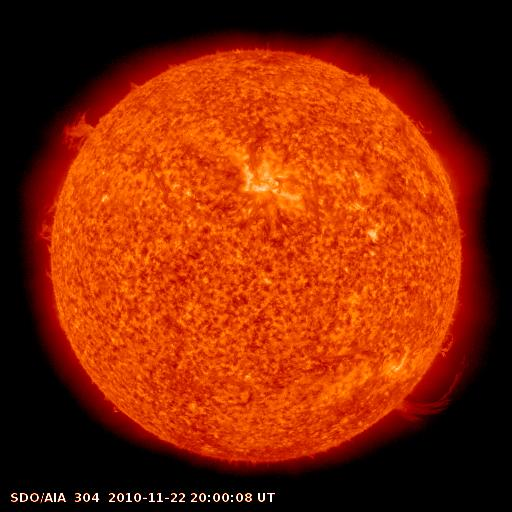prominence: (387, 315, 489, 427), (27, 192, 71, 282), (53, 104, 116, 160), (347, 60, 393, 103), (406, 107, 443, 147)
